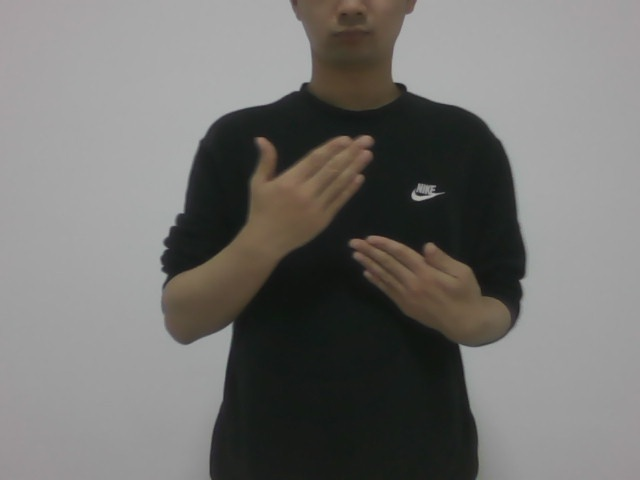tea: (218, 116, 473, 336)
